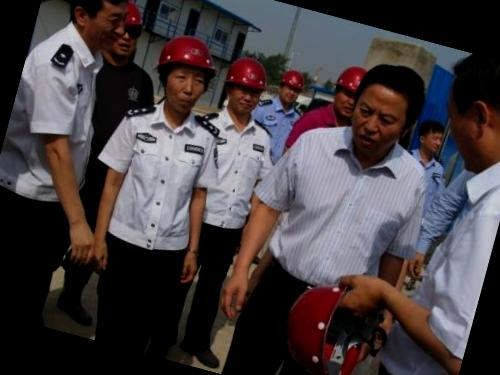no_helmet: (341, 53, 433, 167), (425, 50, 500, 188), (54, 0, 140, 58), (411, 114, 453, 166)
